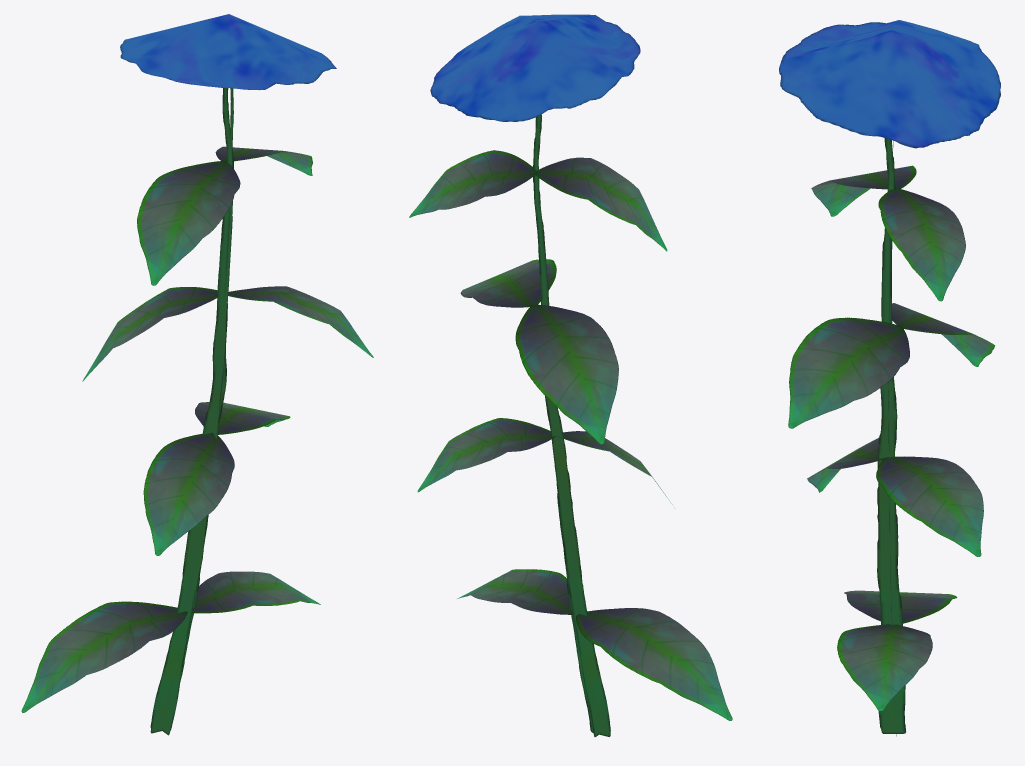
The model's file is S_Flower.fbx.
3 renders of one model, left to right at view 1: azimuth 30°, elevation 25°; view 2: azimuth 150°, elevation 25°; view 3: azimuth 270°, elevation 25°, orthographic. The views are drawn at different scales.
Parts seen in each view (by area): view 1: S_foliage_flower; view 2: S_foliage_flower; view 3: S_foliage_flower.
Boxes of the visible parts, x1=… form: S_foliage_flower: x1=21, y1=14, x2=373, y2=735; S_foliage_flower: x1=409, y1=14, x2=732, y2=736; S_foliage_flower: x1=779, y1=20, x2=1000, y2=736.
Bounding box in the file's own units: 22.37 × 14.28 × 48.12.
